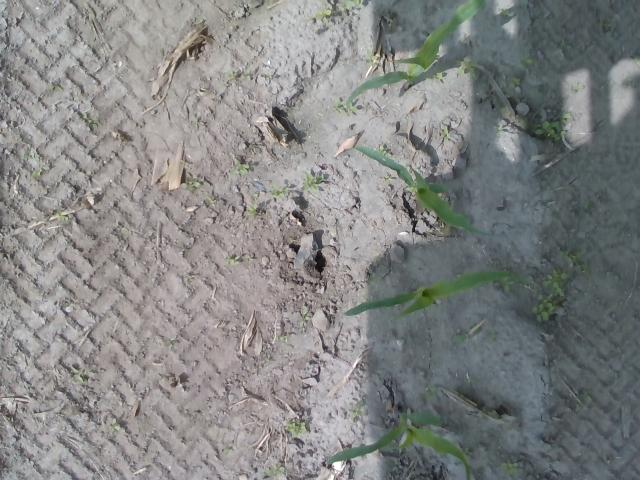Maize: (350, 0, 486, 104), (350, 144, 494, 242), (323, 407, 472, 480), (340, 269, 516, 319)
Weeds: (530, 248, 588, 324), (514, 113, 574, 145), (252, 186, 290, 202), (416, 382, 437, 406), (302, 7, 332, 23), (499, 460, 521, 480), (577, 389, 594, 413), (518, 52, 536, 72), (456, 56, 476, 74), (70, 366, 87, 387), (264, 465, 287, 479), (338, 0, 362, 13), (303, 175, 321, 192), (232, 160, 250, 176), (285, 421, 307, 434), (335, 102, 358, 114), (179, 174, 196, 190), (366, 47, 382, 64), (558, 37, 577, 50), (351, 404, 366, 420), (108, 416, 122, 433), (498, 278, 515, 292), (508, 74, 522, 88), (80, 114, 96, 126), (485, 328, 496, 344), (299, 308, 309, 325), (450, 334, 464, 346), (225, 255, 240, 266), (427, 71, 444, 80), (438, 125, 448, 140), (54, 210, 66, 222), (381, 174, 395, 184), (374, 144, 388, 154), (244, 205, 255, 217), (578, 199, 592, 208), (222, 446, 234, 456), (190, 116, 200, 128), (31, 167, 43, 177), (501, 8, 512, 18), (20, 153, 28, 163)
